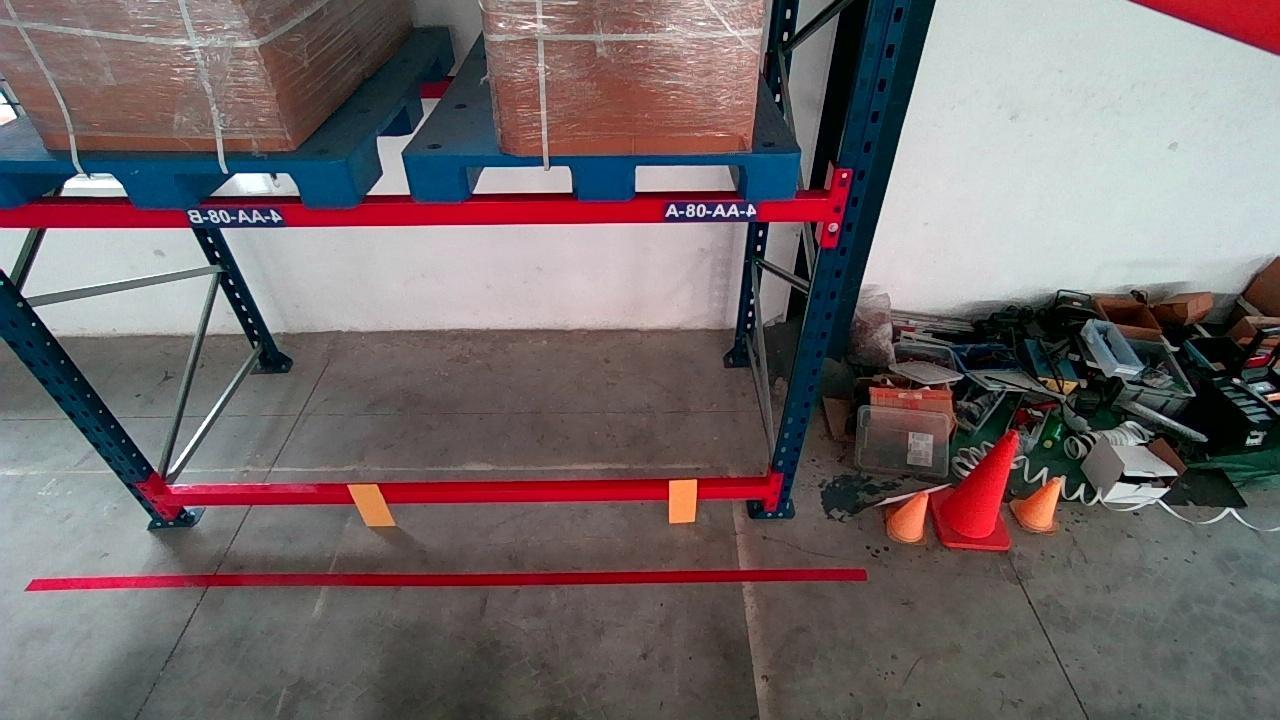h_rack: (8, 185, 822, 233), (168, 478, 770, 508)
orange_strip: (350, 482, 395, 527), (667, 477, 700, 522)
red_line: (20, 562, 866, 591)
small_pallet: (415, 151, 799, 199), (2, 156, 352, 208)
